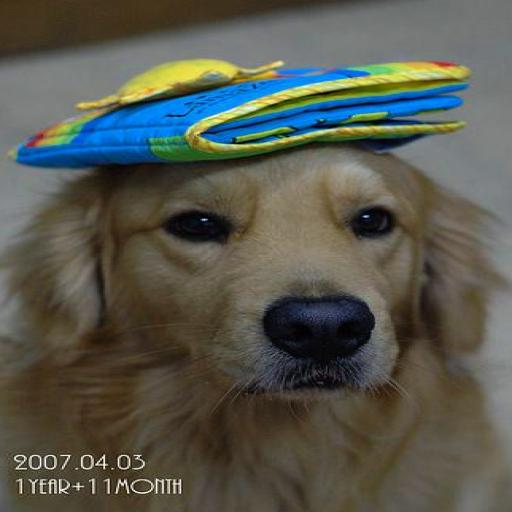dog_face: (32, 157, 494, 405)
